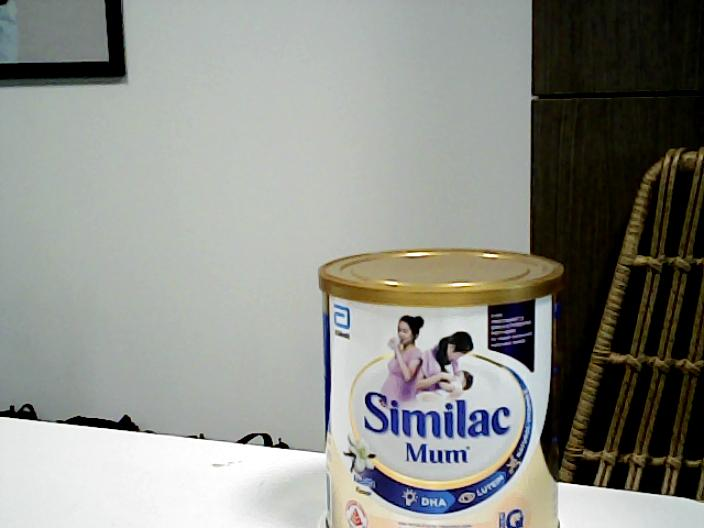MaternalMilkPowder_400-499g_NonHalal_Healthy: (317, 249, 568, 528)
